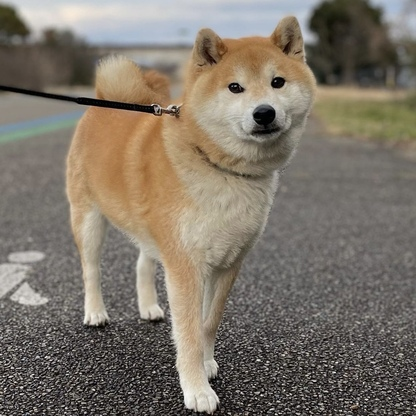shiba: (59, 12, 319, 407)
